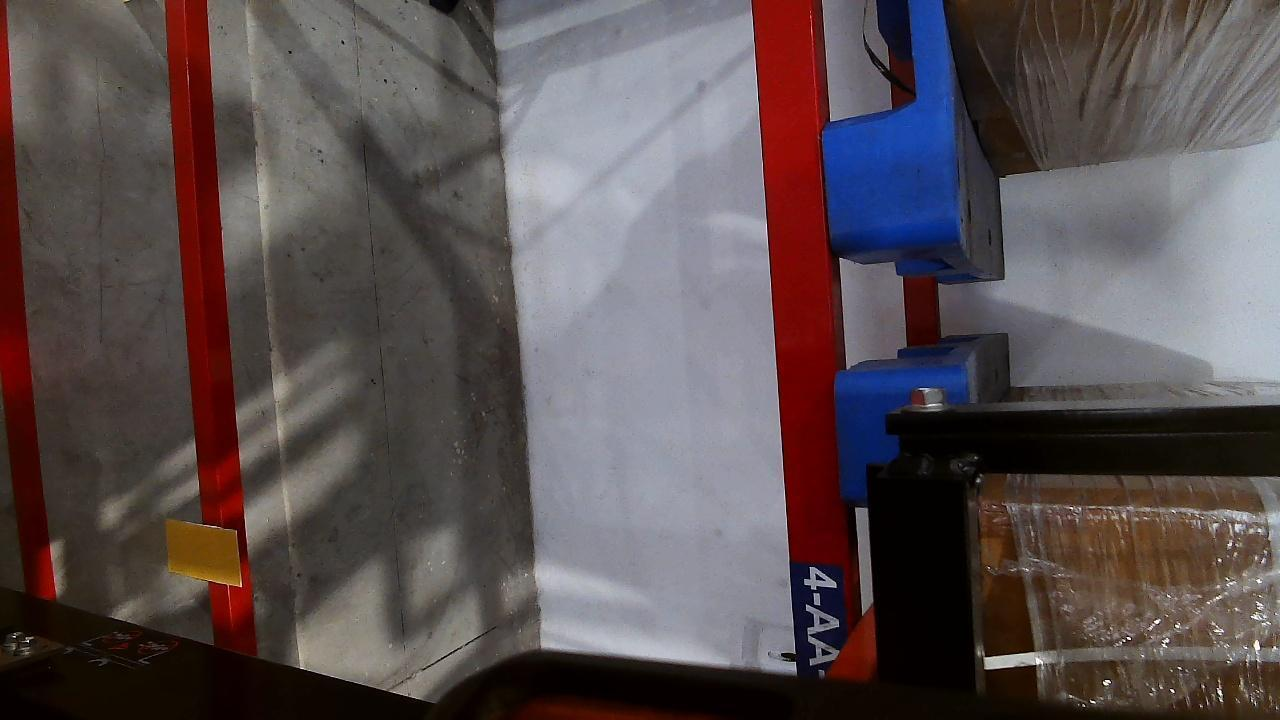red_line: (0, 1, 38, 583)
